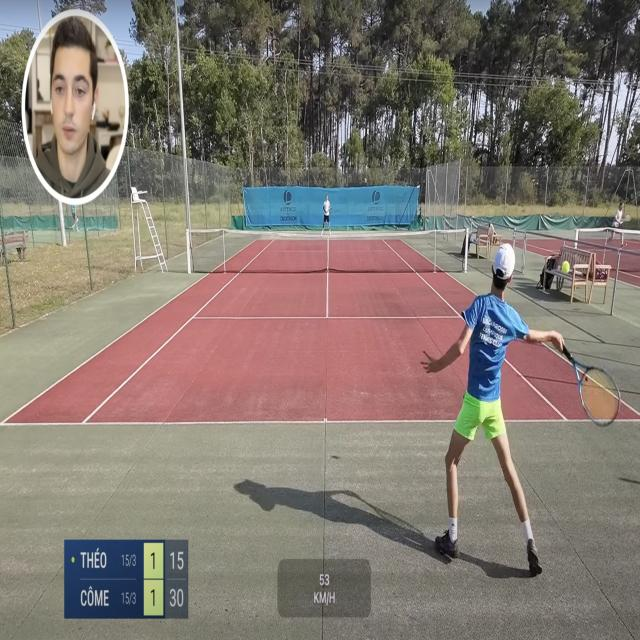ball: (562, 260, 570, 276)
